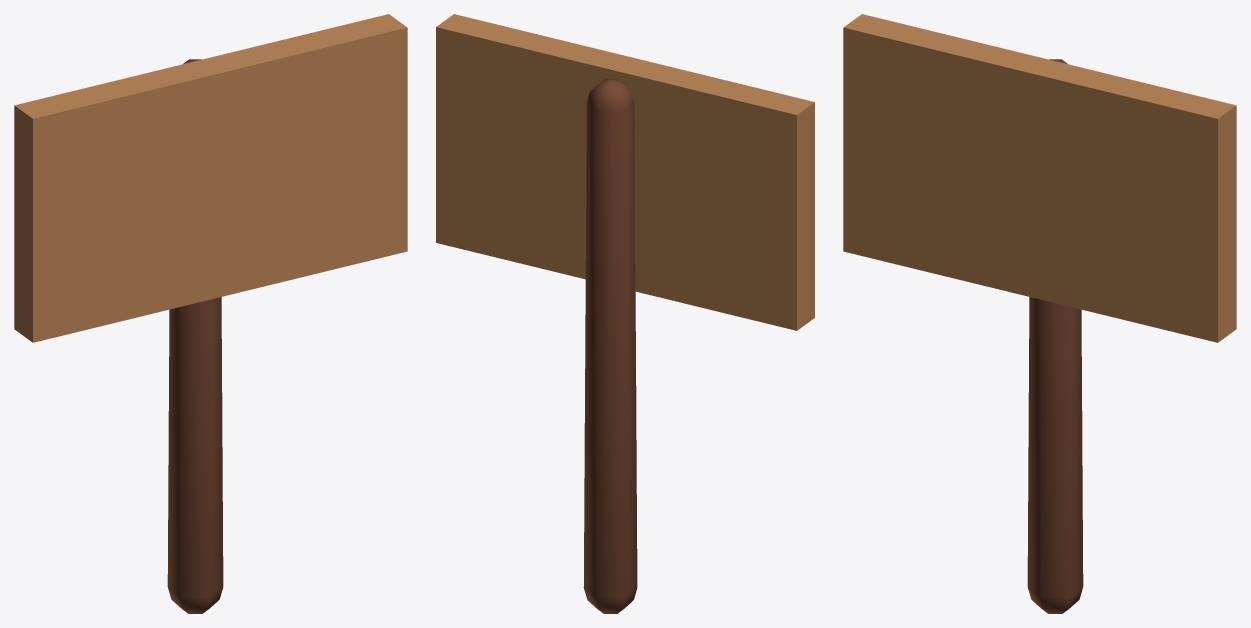
The model's file is sign.glb.
3 views of the same model, side by side, from view 1: azimuth 30°, elevation 25°; view 2: azimuth 150°, elevation 25°; view 3: azimuth 330°, elevation 25° (orthographic). The views are drawn at different scales.
Parts seen in each view (by area): view 1: sign; view 2: sign; view 3: sign.
Part boxes in pixels (<box>): sign: <box>14,14,407,613</box>; sign: <box>436,14,814,613</box>; sign: <box>843,14,1236,613</box>.
Size of the model in its own units: 0.7 by 0.995 by 0.125.
